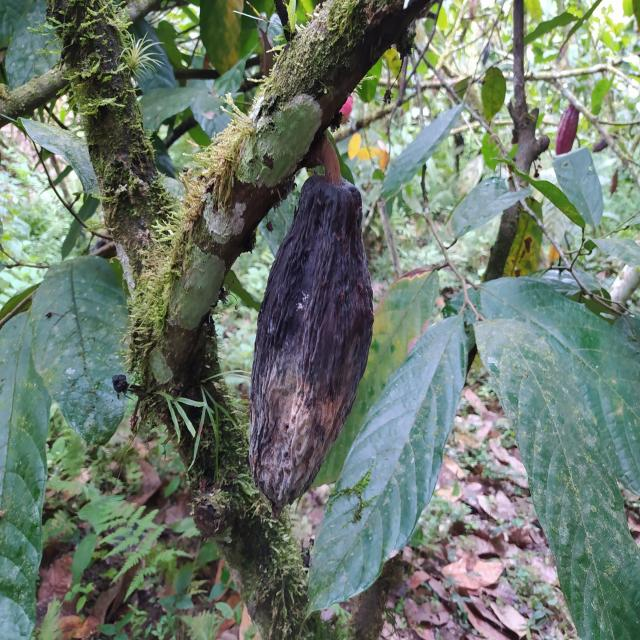Fitoftora: (249, 172, 376, 519)
Sana: (555, 102, 580, 157)
